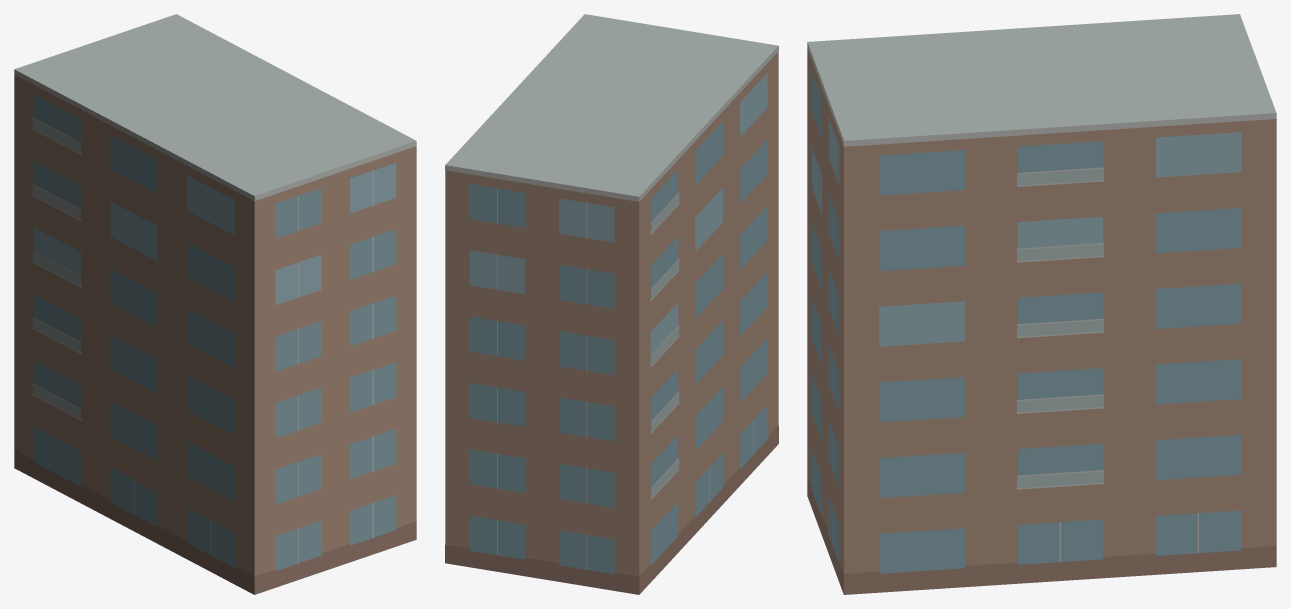
File: survey-upis-32576227.glb
3 views of the same model, side by side, from view 1: azimuth 30°, elevation 25°; view 2: azimuth 150°, elevation 25°; view 3: azimuth 270°, elevation 25° (orthographic). The views are drawn at different scales.
Visible parts, largest first — view 1: survey-upis-32576227.tmp; view 2: survey-upis-32576227.tmp; view 3: survey-upis-32576227.tmp.
Part boxes in pixels (bbox=[...]): survey-upis-32576227.tmp: bbox=[14, 14, 416, 594]; survey-upis-32576227.tmp: bbox=[445, 14, 778, 594]; survey-upis-32576227.tmp: bbox=[807, 14, 1276, 594].
Bounding box in the file's own units: 11.34 × 18.9 × 17.72.
